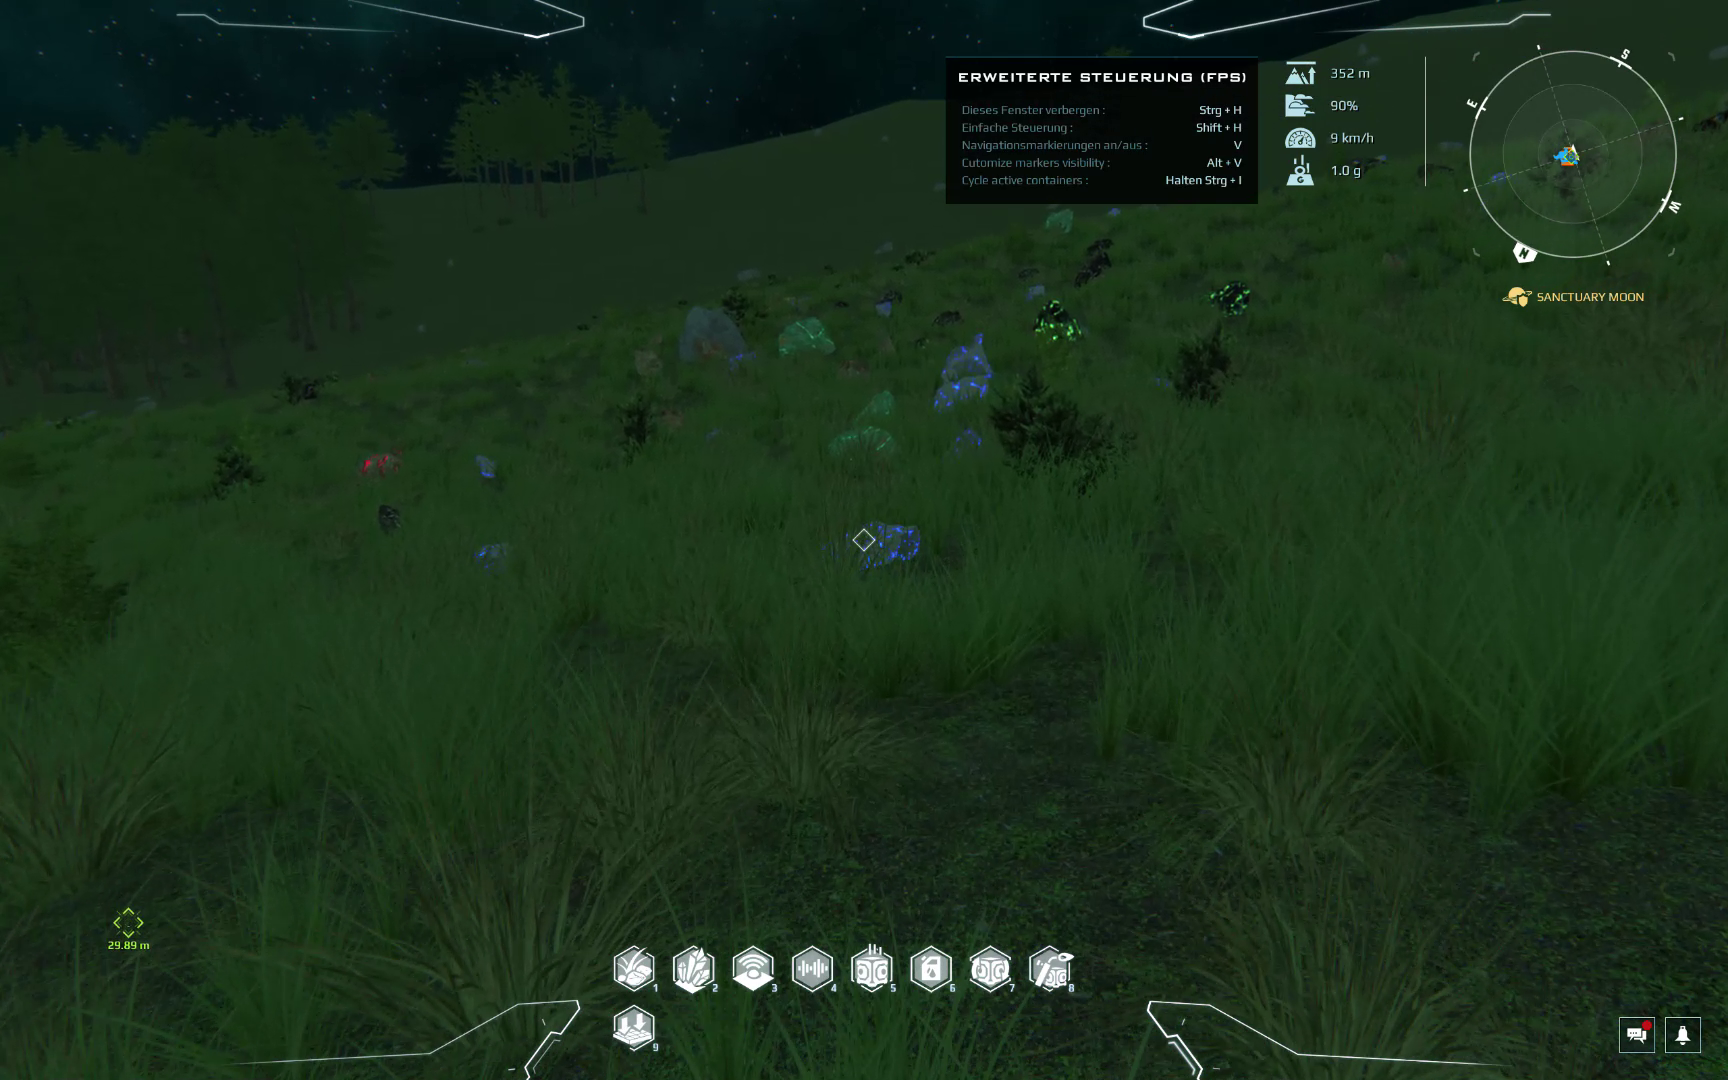Ore: (825, 386, 904, 477), (931, 330, 1000, 416), (837, 518, 931, 574), (774, 311, 840, 361), (1067, 238, 1121, 292), (909, 304, 963, 357), (1028, 299, 1086, 345), (1205, 272, 1257, 321), (353, 443, 408, 484), (470, 538, 518, 574), (945, 421, 989, 458), (369, 501, 408, 541), (468, 447, 500, 489), (1040, 207, 1079, 235), (873, 284, 909, 309), (729, 347, 756, 378), (899, 249, 936, 270)
